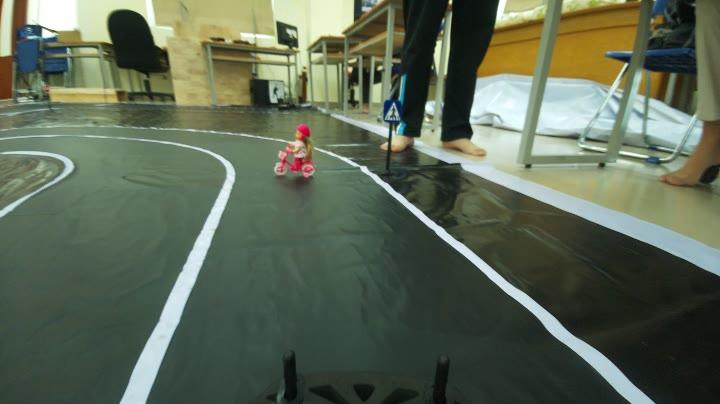crosswalk: (382, 96, 405, 129)
pedestrian: (262, 116, 328, 190)
